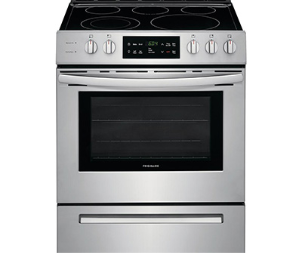stove: (52, 2, 249, 253)
